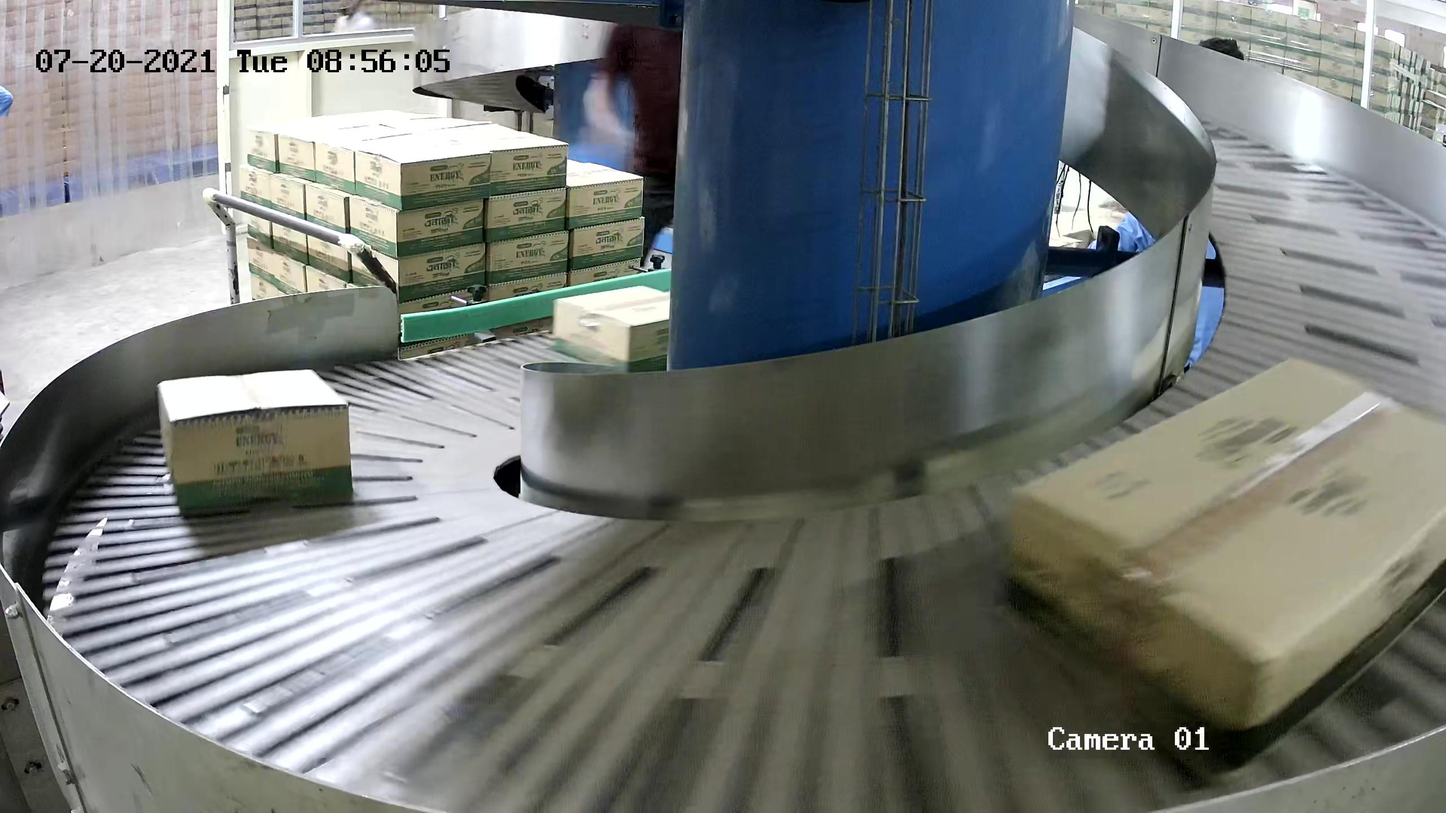Box: (996, 353, 1446, 794), (157, 367, 355, 522), (553, 285, 710, 382)
